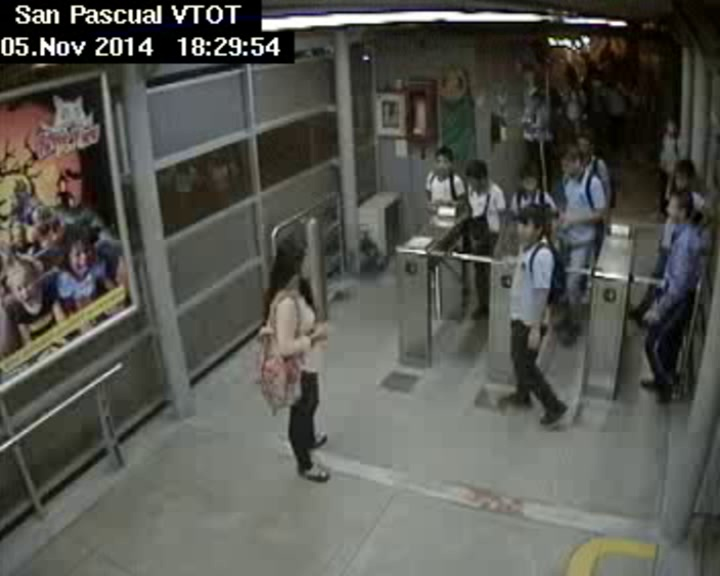person: (272, 234, 314, 286), (510, 199, 548, 249), (663, 187, 693, 226), (460, 158, 493, 193), (427, 143, 459, 177), (667, 153, 697, 188), (555, 143, 584, 177), (514, 161, 541, 193), (661, 115, 684, 140), (575, 129, 593, 158), (527, 88, 545, 104), (607, 75, 623, 87), (567, 73, 579, 88), (589, 77, 600, 86)
